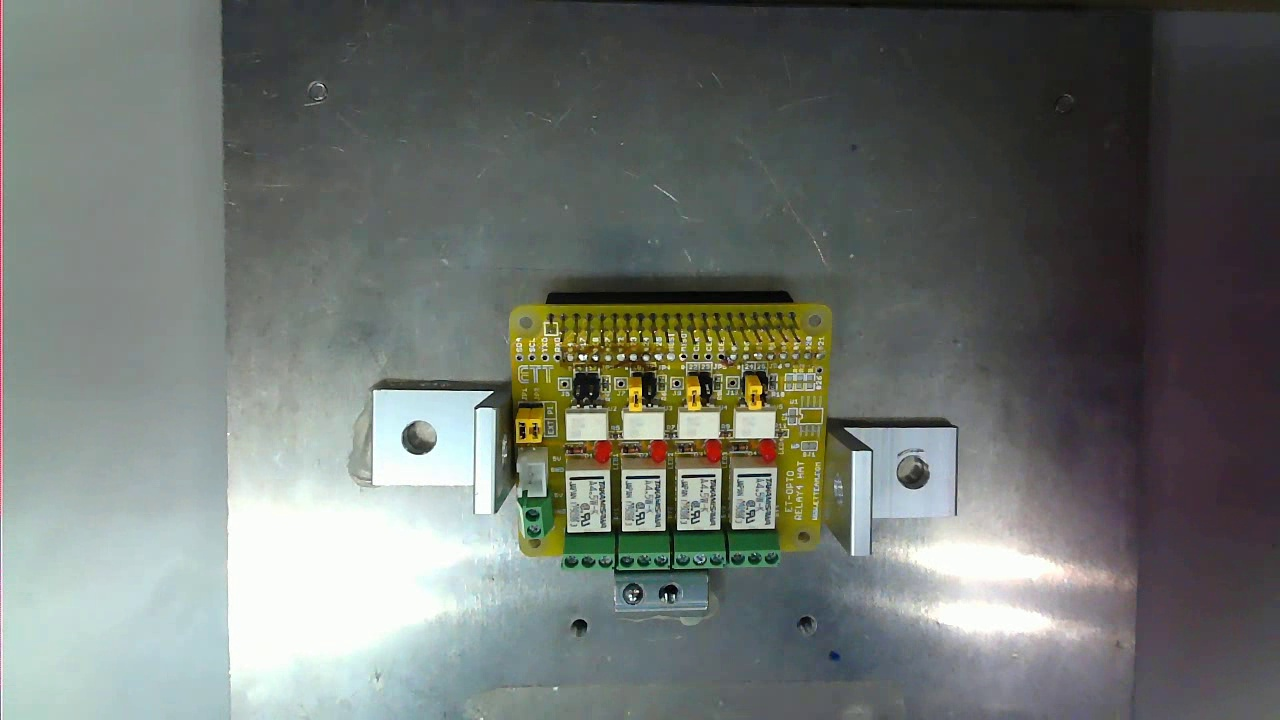can: (494, 295, 837, 575)
